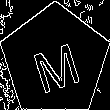M_N: (27, 30, 83, 92)
